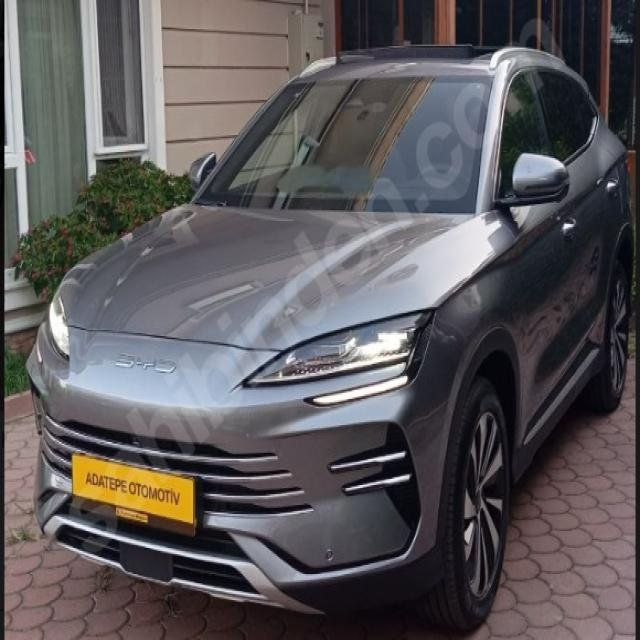byd: (110, 344, 184, 386)
